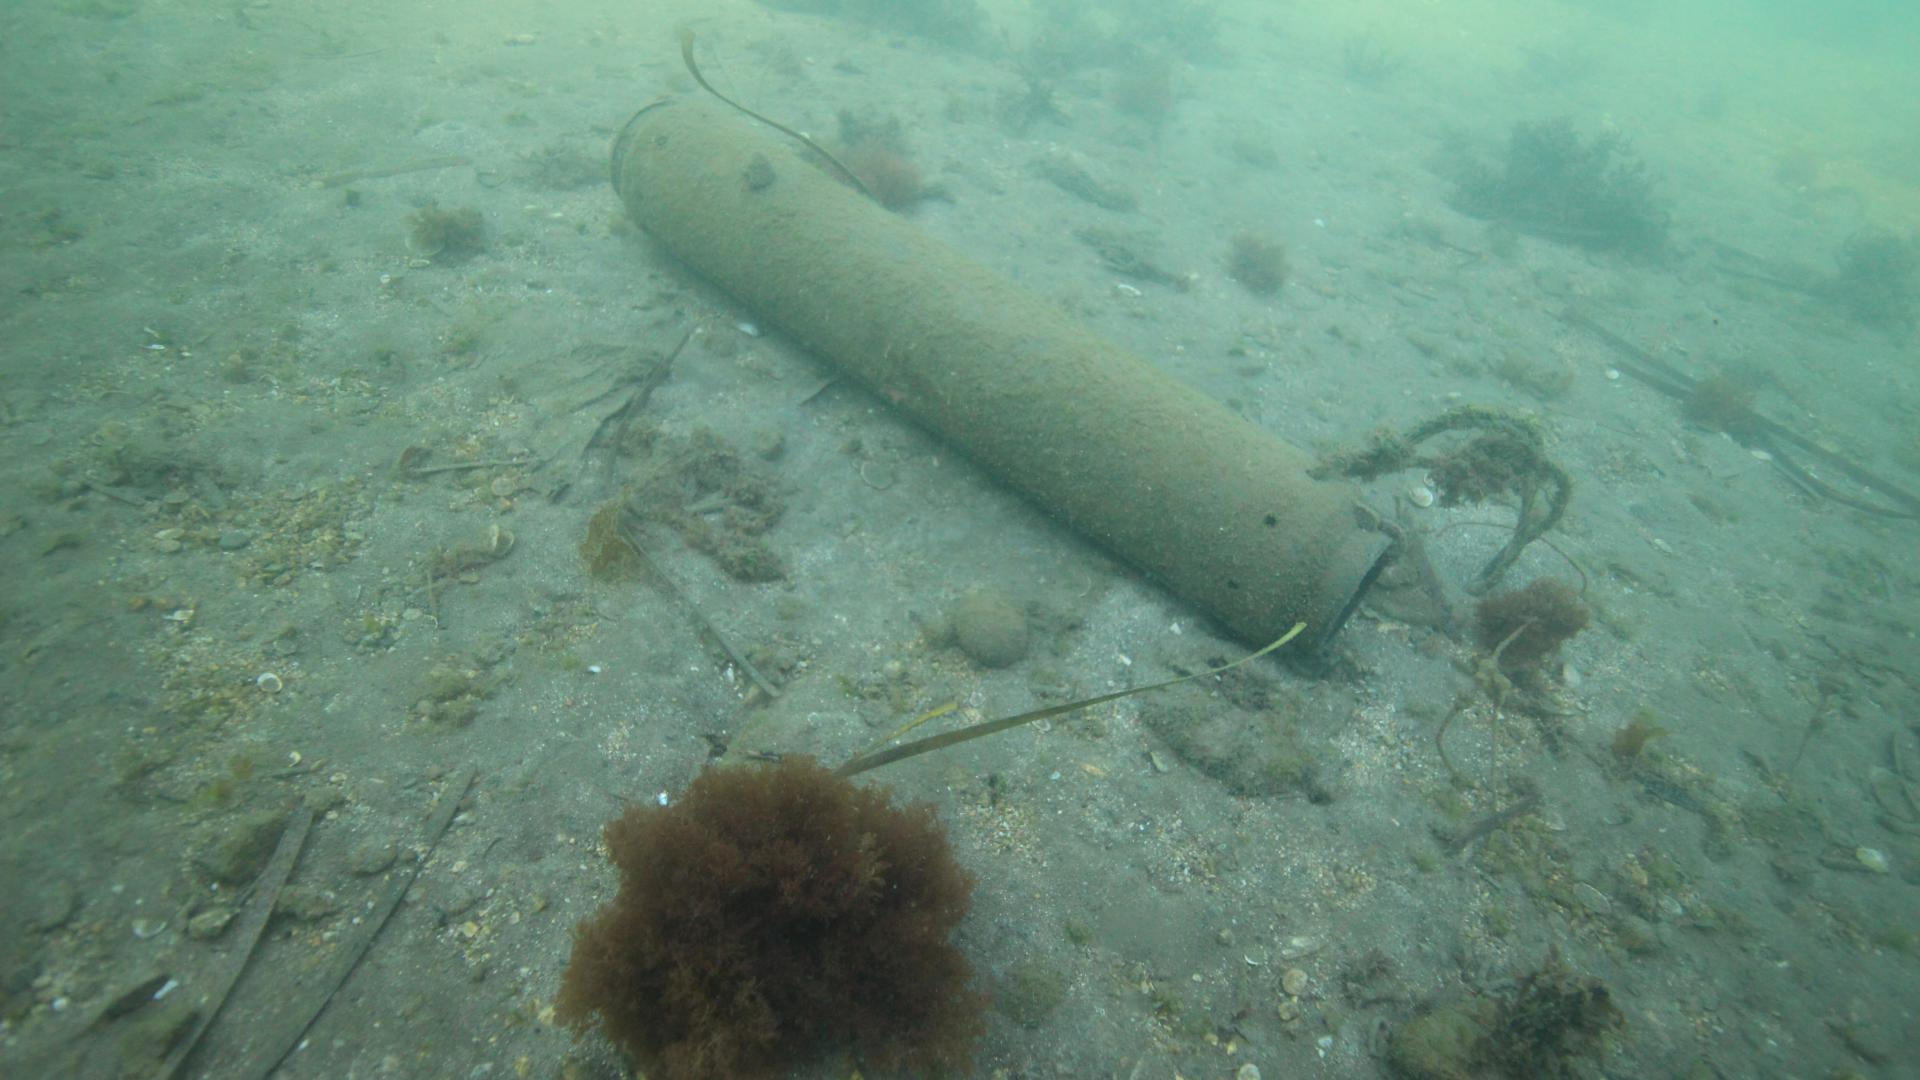bundle of ropes: (1315, 402, 1577, 597)
eel fish trap: (601, 92, 1394, 669)
